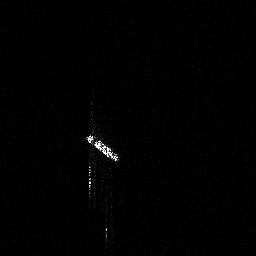ship: (81, 129, 122, 164)
